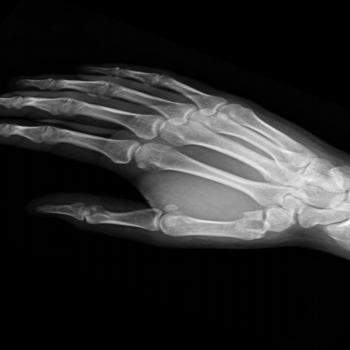Fracture: (233, 210, 273, 234)
